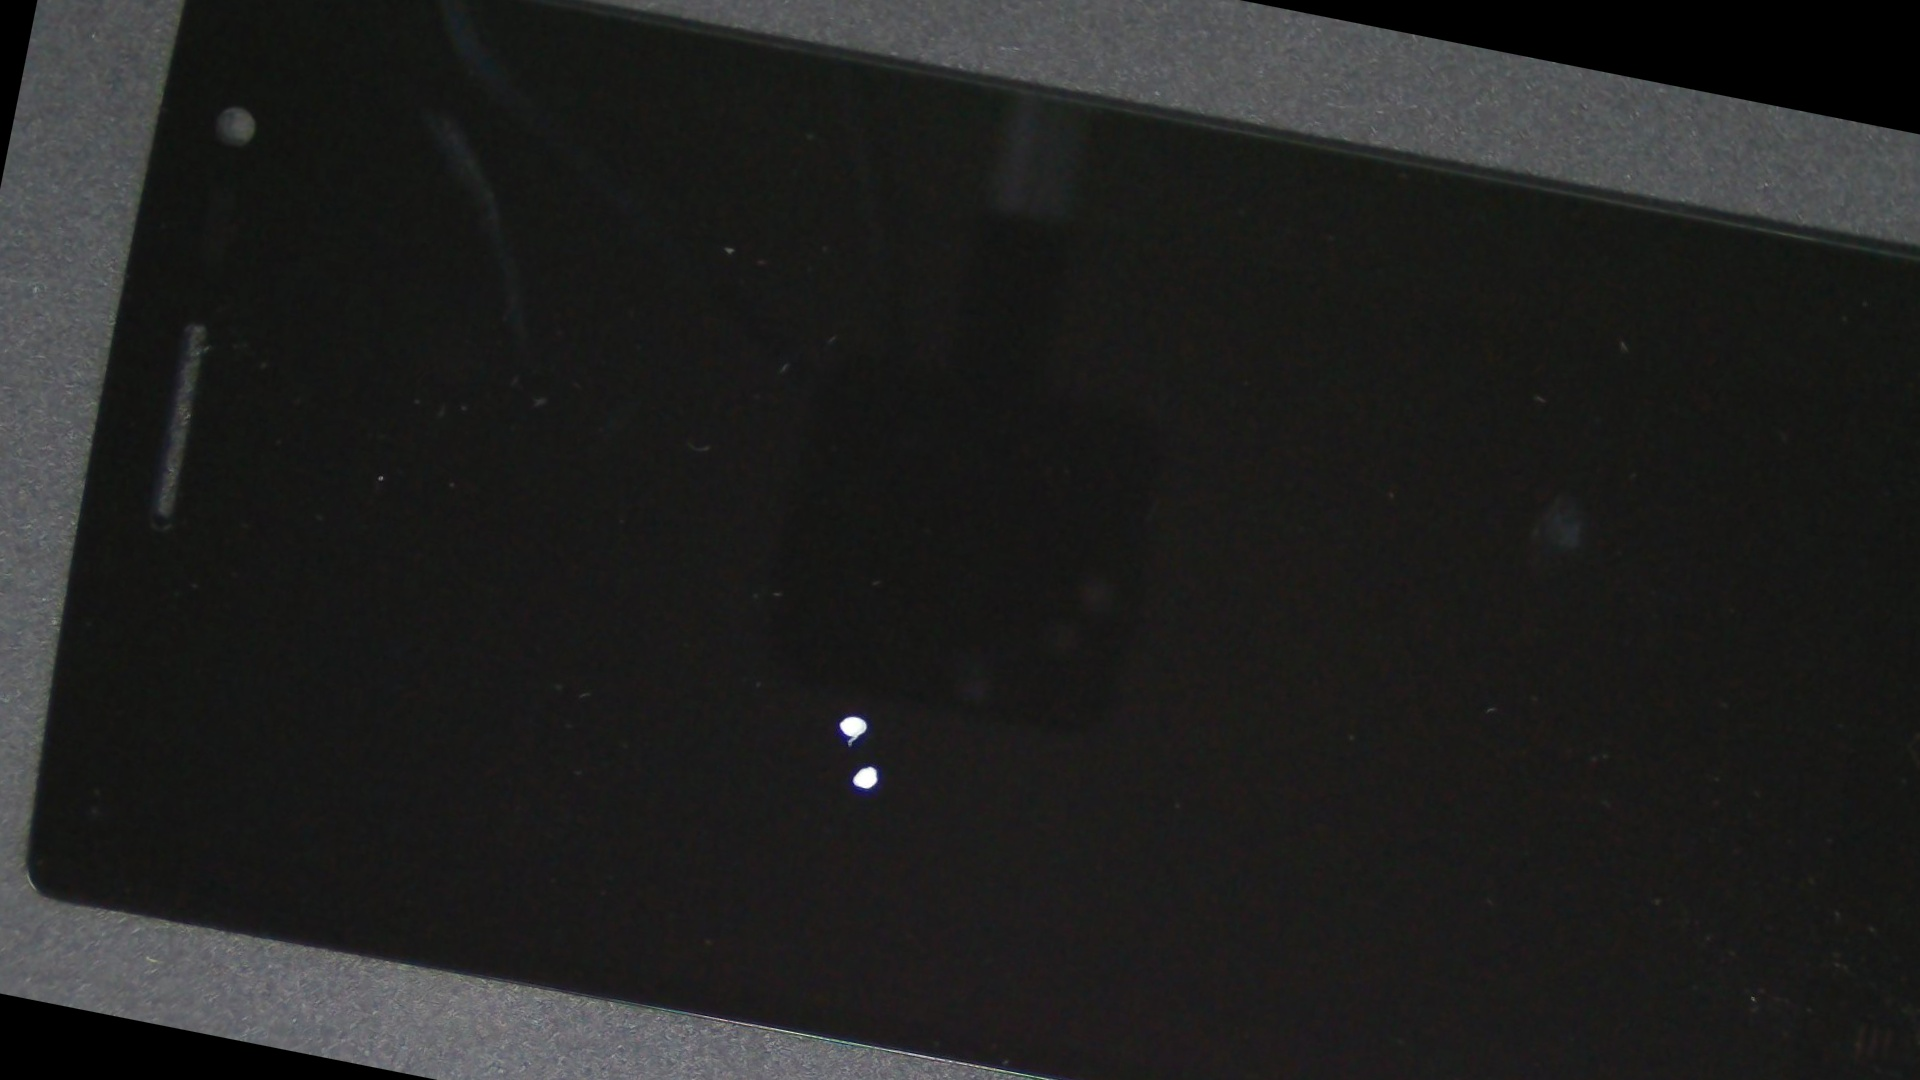oil: (320, 243, 1395, 1080), (320, 268, 1422, 1080)
